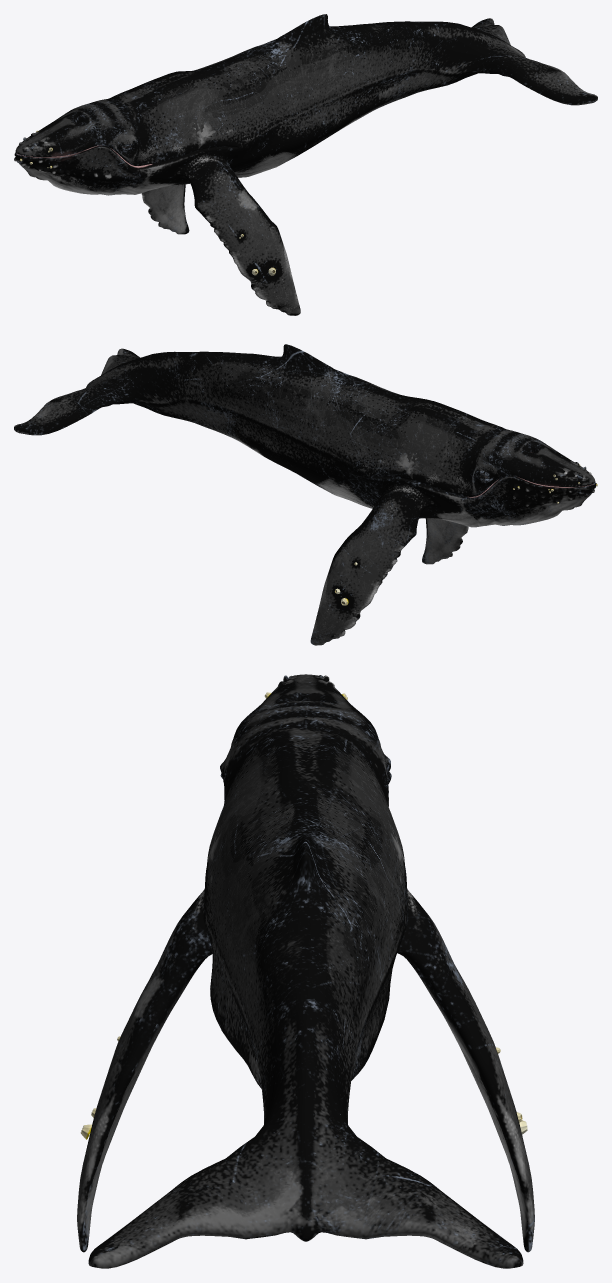
File: humbpack-whale.glb
3 renders of one model, top to bottom at view 1: azimuth 30°, elevation 25°; view 2: azimuth 150°, elevation 25°; view 3: azimuth 270°, elevation 25°, orthographic. The views are drawn at different scales.
Parts seen in each view (by area): view 1: body; view 2: body; view 3: body.
Part boxes in pixels (bbox=[...]): body: bbox=[14, 14, 597, 315]; body: bbox=[14, 344, 596, 645]; body: bbox=[77, 674, 534, 1268].
Bounding box in the file's own units: 16.77 × 7.27 × 6.28.
Materials: 3 (3 with a texture image).
